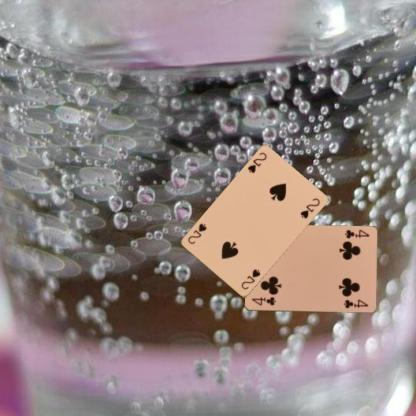2s: (238, 266, 262, 291), (245, 150, 268, 175)
4c: (341, 228, 370, 239), (249, 295, 277, 306)
